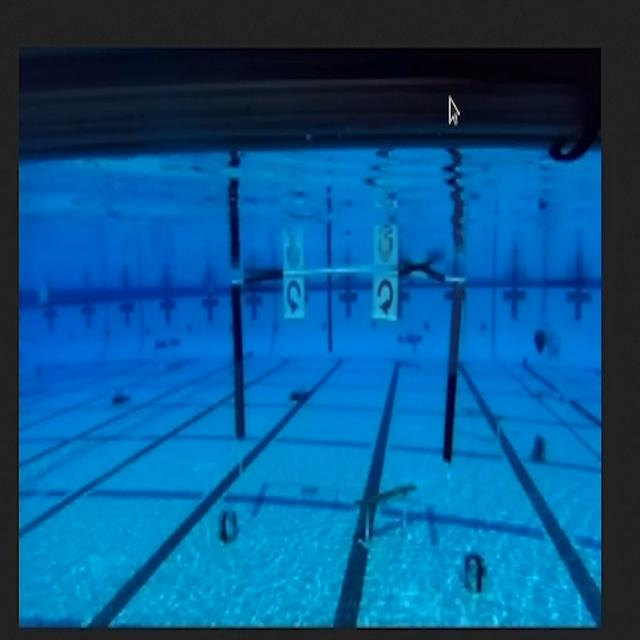Gate: (234, 263, 462, 463)
